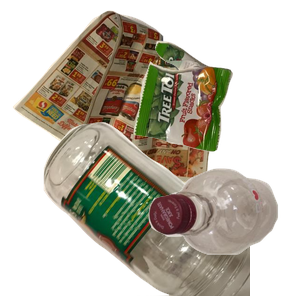glass: (41, 120, 281, 300)
paper: (10, 10, 217, 189)
plastic: (146, 166, 300, 300)
trash: (131, 38, 300, 182)
